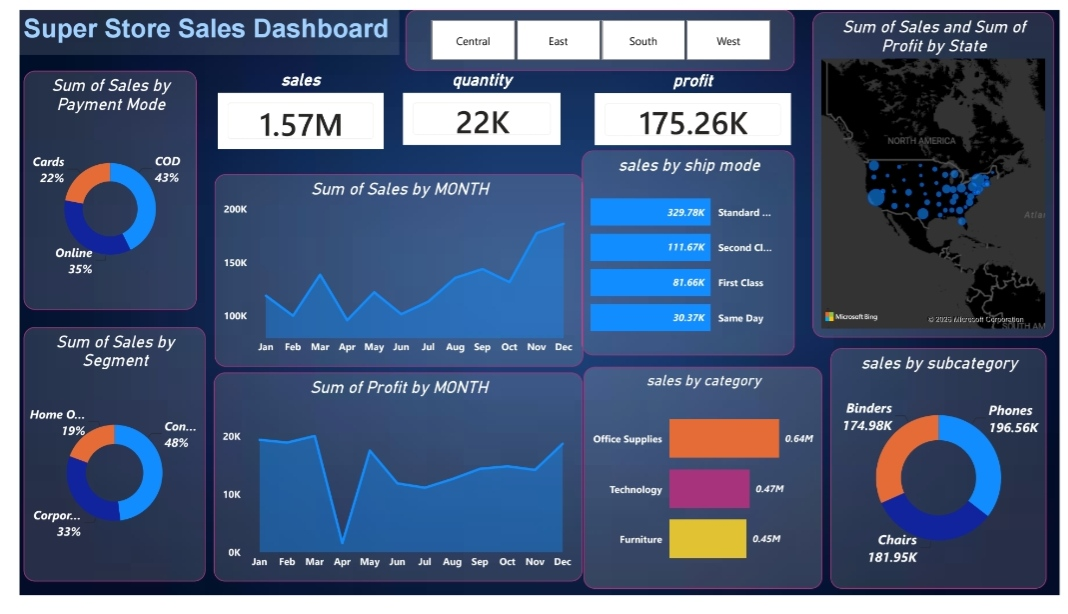

The dashboard page shown, as its layout file describes it:
{"tool":"powerbi","page":{"name":"Page 1","canvas":[1280,720],"ordinal":0},"visuals":[{"type":"clusteredBarChart","title":"sales by category","fields":{"Category":["SuperStore_Sales_Dataset.Category"],"Y":["Sum(SuperStore_Sales_Dataset.Sales)"]},"box":[694.3,439.1,293.7,273.1],"z":0},{"type":"donutChart","title":"sales by subcategory","fields":{"Category":["SuperStore_Sales_Dataset.Sub-Category"],"Y":["Sum(SuperStore_Sales_Dataset.Sales)"]},"box":[997.6,415.8,266.2,296.4],"z":1000},{"type":"clusteredBarChart","title":"sales by ship mode","fields":{"Y":["Sum(SuperStore_Sales_Dataset.Sales)"],"Category":["SuperStore_Sales_Dataset.Ship Mode"]},"box":[691.6,172.9,262.1,252.5],"z":2000},{"type":"areaChart","fields":{"Y":["Sum(SuperStore_Sales_Dataset.Sales)"],"Category":["SuperStore_Sales_Dataset.MONTH name"]},"box":[240.1,201.7,454.2,237.4],"z":3000},{"type":"map","fields":{"Category":["SuperStore_Sales_Dataset.State"],"Size":["Sum(SuperStore_Sales_Dataset.Sales)"]},"box":[975.6,2.7,297.8,400.7],"z":4000},{"type":"areaChart","fields":{"Category":["SuperStore_Sales_Dataset.MONTH name"],"Y":["Sum(SuperStore_Sales_Dataset.Profit)"]},"box":[238.8,446,454.2,256.6],"z":5000},{"type":"donutChart","fields":{"Category":["SuperStore_Sales_Dataset.Segment"],"Y":["Sum(SuperStore_Sales_Dataset.Sales)"]},"box":[5.5,389.7,223.7,312.9],"z":6000},{"type":"donutChart","fields":{"Y":["Sum(SuperStore_Sales_Dataset.Sales)"],"Category":["SuperStore_Sales_Dataset.Payment Mode"]},"box":[5.5,75.5,212.7,293.7],"z":7000},{"type":"slicer","fields":{"Values":["SuperStore_Sales_Dataset.Region"]},"box":[474.8,0,478.9,75.5],"z":8000},{"type":"textbox","box":[0,0,466.6,54.9],"z":9000},{"type":"cardVisual","title":"sales","fields":{"Data":["Sum(SuperStore_Sales_Dataset.Sales)"]},"box":[238.8,74.1,214.1,102.9],"z":10000},{"type":"cardVisual","title":"quantity","fields":{"Data":["Sum(SuperStore_Sales_Dataset.Quantity)"]},"box":[466.6,74.1,204.5,97.4],"z":11000},{"type":"cardVisual","title":"profit","fields":{"Data":["Sum(SuperStore_Sales_Dataset.Profit)"]},"box":[702.6,75.5,251.1,97.4],"z":12000}]}

Visuals, with their boxes in screenshot pixels (x1, y1, x2, y2), scaled from the page's 1280x720 canvas onto the 1068x614 screenshot:
"sales by category" clusteredBarChart: x1=579, y1=374, x2=824, y2=607
"sales by subcategory" donutChart: x1=832, y1=355, x2=1054, y2=607
"sales by ship mode" clusteredBarChart: x1=577, y1=147, x2=796, y2=363
areaChart - Sum(SuperStore_Sales_Dataset.Sales) x SuperStore_Sales_Dataset.MONTH name: x1=200, y1=172, x2=579, y2=374
map - SuperStore_Sales_Dataset.State x Sum(SuperStore_Sales_Dataset.Sales): x1=814, y1=2, x2=1062, y2=344
areaChart - SuperStore_Sales_Dataset.MONTH name x Sum(SuperStore_Sales_Dataset.Profit): x1=199, y1=380, x2=578, y2=599
donutChart - SuperStore_Sales_Dataset.Segment x Sum(SuperStore_Sales_Dataset.Sales): x1=5, y1=332, x2=191, y2=599
donutChart - Sum(SuperStore_Sales_Dataset.Sales) x SuperStore_Sales_Dataset.Payment Mode: x1=5, y1=64, x2=182, y2=315
slicer - SuperStore_Sales_Dataset.Region: x1=396, y1=0, x2=796, y2=64
textbox: x1=0, y1=0, x2=389, y2=47
"sales" cardVisual: x1=199, y1=63, x2=378, y2=151
"quantity" cardVisual: x1=389, y1=63, x2=560, y2=146
"profit" cardVisual: x1=586, y1=64, x2=796, y2=147
